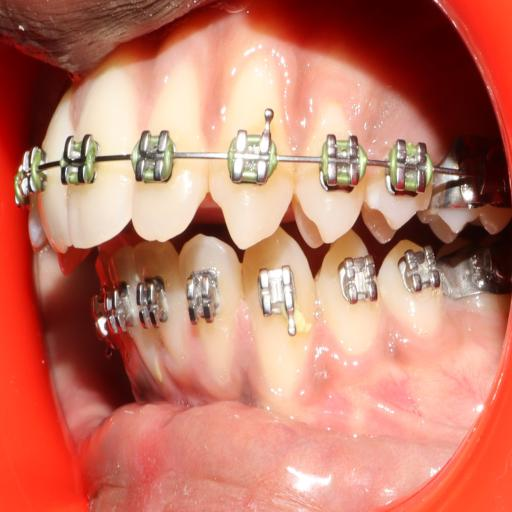correct_brace: (295, 99, 362, 245), (310, 230, 381, 356), (254, 265, 299, 343), (337, 252, 378, 316), (184, 266, 223, 329), (398, 244, 438, 302)
incorrect_brace: (130, 56, 208, 242), (179, 230, 244, 394)
